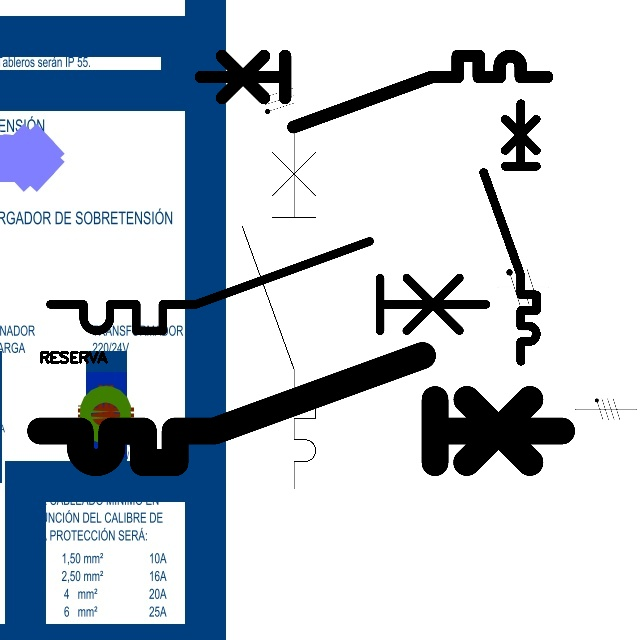interruptor_termomagnetico: (27, 342, 575, 476), (39, 230, 497, 342), (233, 121, 325, 497), (192, 47, 556, 136), (477, 97, 543, 368)
